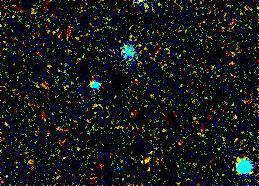star: (133, 138, 163, 168)
